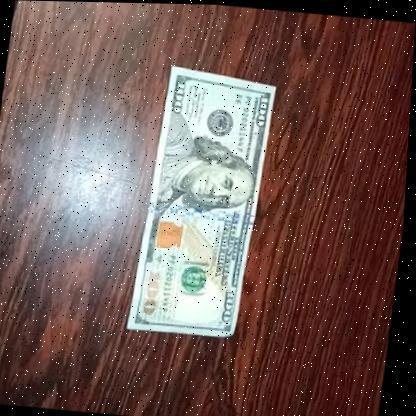dollar_front: (128, 67, 281, 340)
